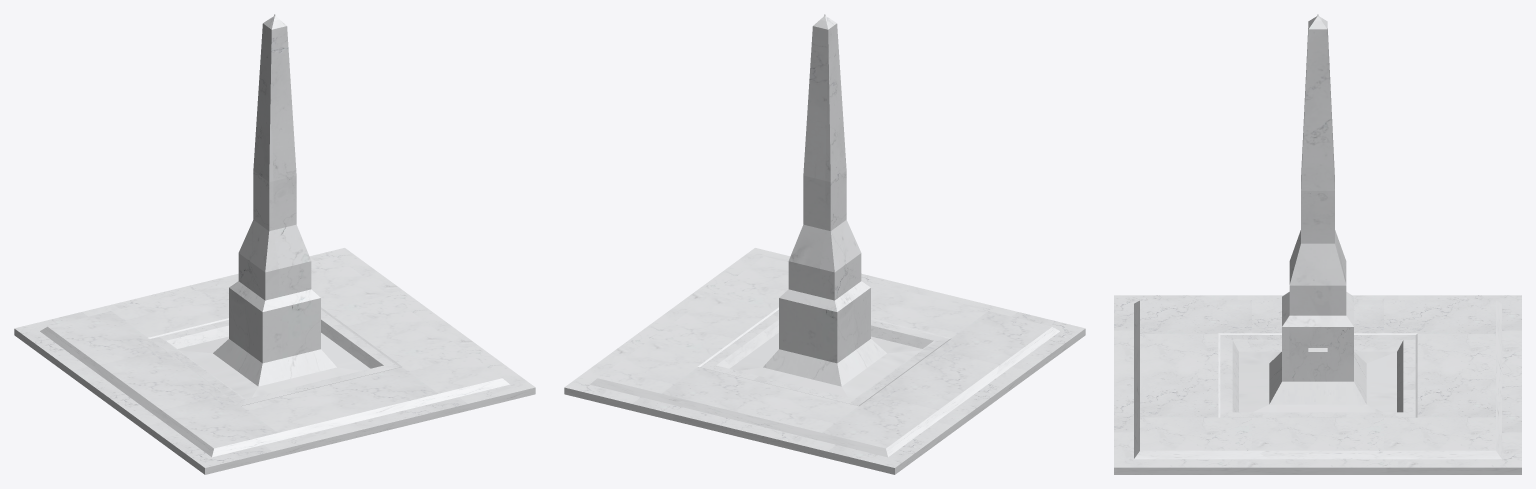
Rendered from waterFountain.obj.
3 renders of one model, left to right at view 1: azimuth 30°, elevation 25°; view 2: azimuth 150°, elevation 25°; view 3: azimuth 270°, elevation 25°, orthographic. The views are drawn at different scales.
Parts seen in each view (by area): view 1: Cube; view 2: Cube; view 3: Cube.
Boxes of the visible parts, box(x1,y1,x2,y2) form: Cube: box(14, 14, 535, 474); Cube: box(564, 14, 1085, 474); Cube: box(1114, 14, 1521, 474).
Size of the model in its own units: 15.04 by 15.25 by 15.04.
Materials: 1 (1 with a texture image).
